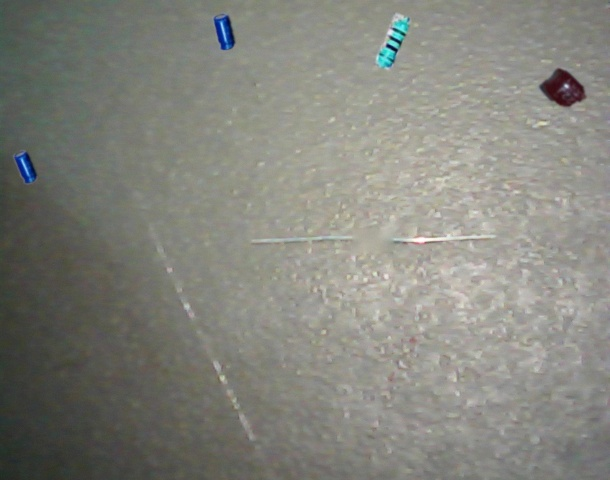capacitor: (539, 68, 586, 107), (213, 14, 235, 50), (14, 151, 37, 184)
resistor: (374, 13, 412, 71)
